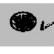correct: (8, 10, 54, 34)
